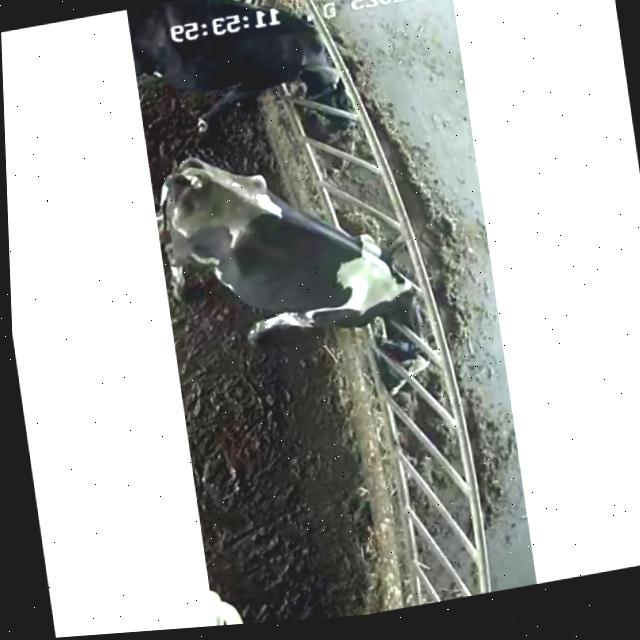eat: (318, 221, 486, 410), (239, 0, 400, 155)
